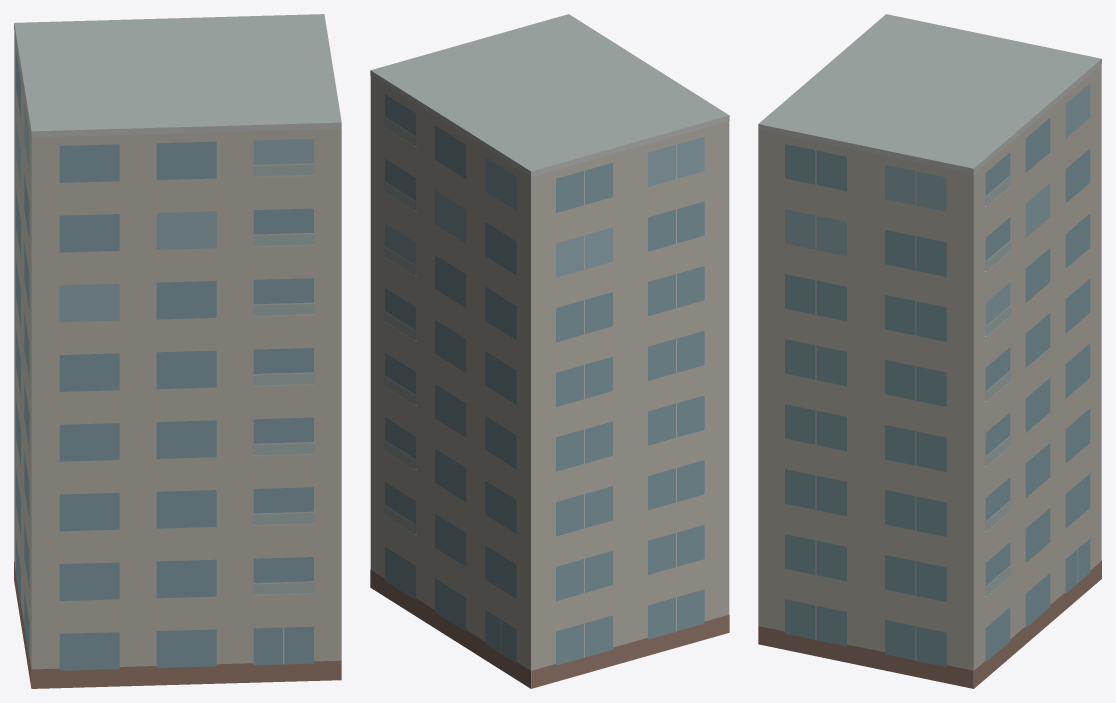
Rendered from survey-upis-33047113.glb.
3 views of the same model, side by side, from view 1: azimuth 30°, elevation 25°; view 2: azimuth 150°, elevation 25°; view 3: azimuth 270°, elevation 25° (orthographic). The views are drawn at different scales.
Parts seen in each view (by area): view 1: survey-upis-33047113.tmp; view 2: survey-upis-33047113.tmp; view 3: survey-upis-33047113.tmp.
Boxes of the visible parts, x1,y1,x2,y2 form: survey-upis-33047113.tmp: (14, 14, 341, 688); survey-upis-33047113.tmp: (370, 14, 729, 688); survey-upis-33047113.tmp: (758, 14, 1101, 688).
Bounding box in the file's own units: 14.43 × 22.6 × 13.54.
